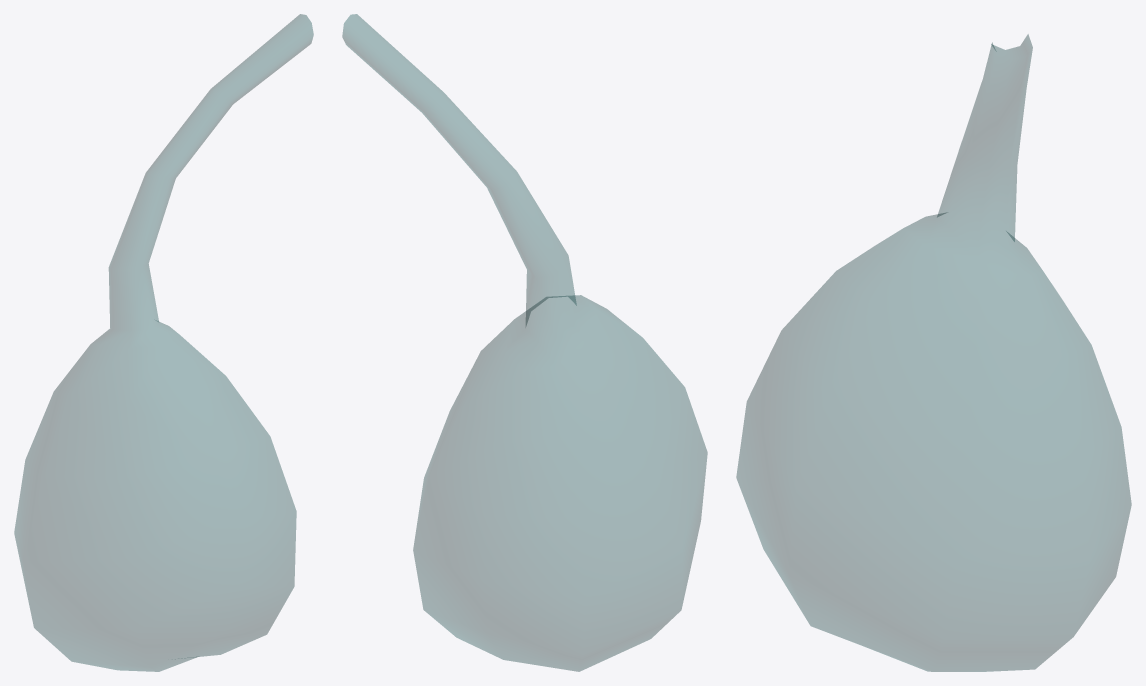
The model's file is Transperent Pituitary_Gland_Part_A.gltf.
3 renders of one model, left to right at view 1: azimuth 30°, elevation 25°; view 2: azimuth 150°, elevation 25°; view 3: azimuth 270°, elevation 25°, orthographic. The views are drawn at different scales.
Visible parts, largest first — view 1: Pituitary_Gland_Part_A; view 2: Pituitary_Gland_Part_A; view 3: Pituitary_Gland_Part_A.
Part boxes in pixels (<box>): Pituitary_Gland_Part_A: <box>14,14,313,671</box>; Pituitary_Gland_Part_A: <box>342,14,707,671</box>; Pituitary_Gland_Part_A: <box>736,34,1131,671</box>.
Bounding box in the file's own units: 0.3624 × 0.6701 × 0.3209.
